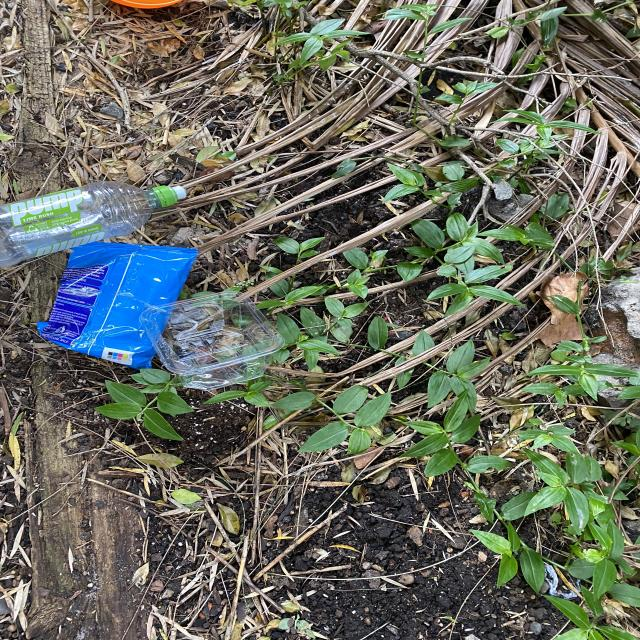bag: (35, 241, 199, 370)
bottle: (0, 181, 187, 268)
cup: (140, 291, 286, 391)
